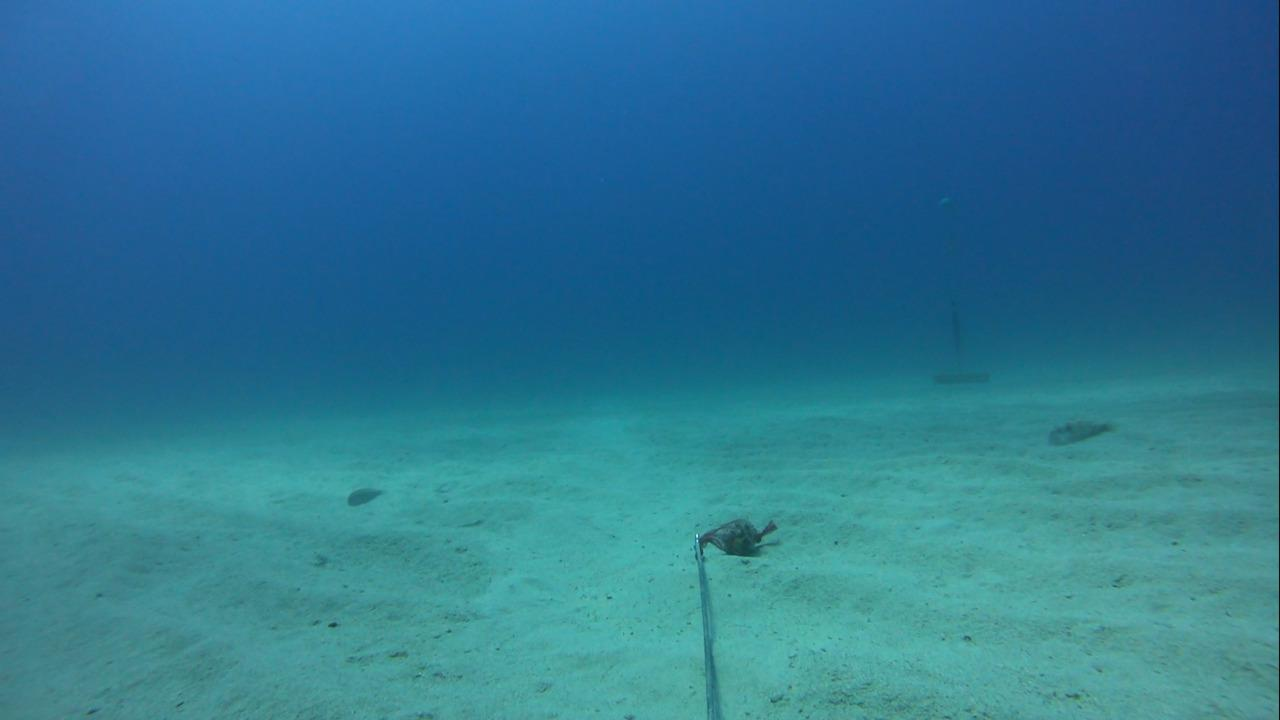raor: (1036, 410, 1123, 454), (328, 477, 391, 514)
